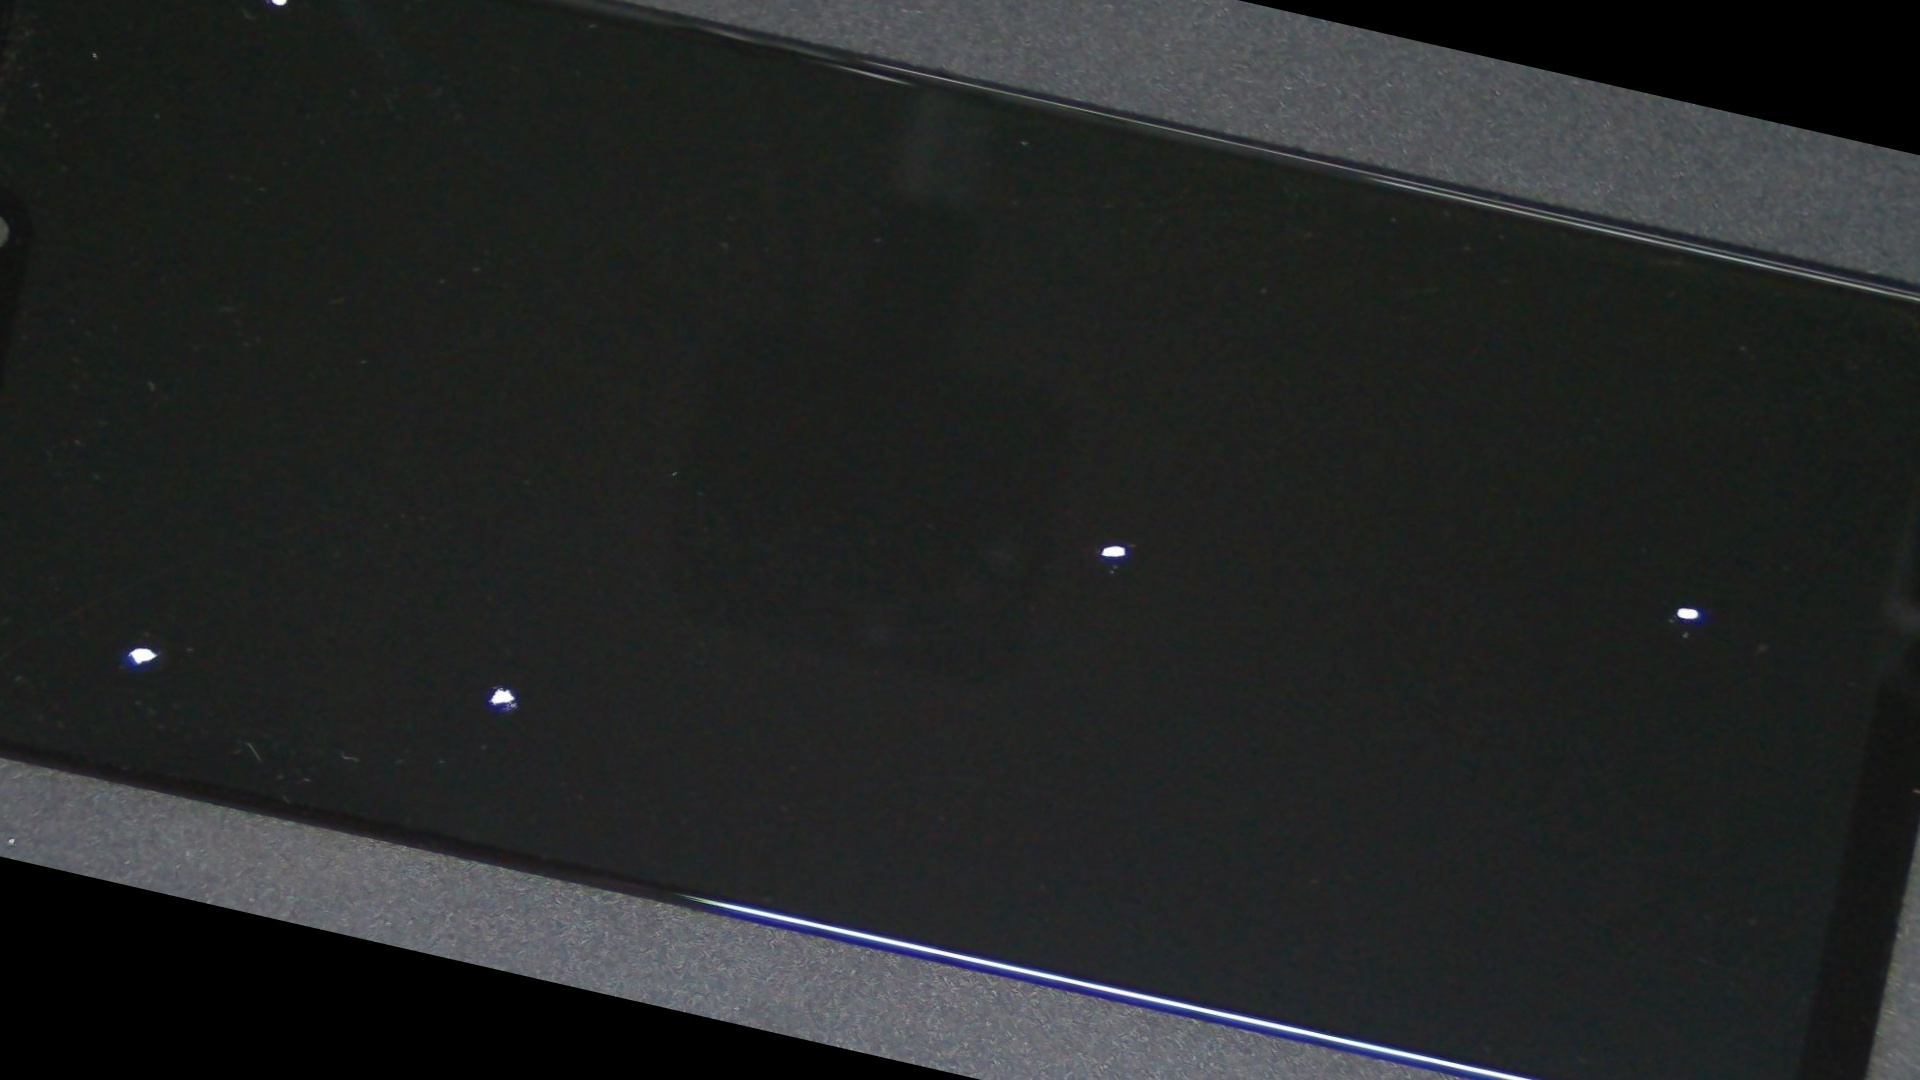oil: (410, 125, 1824, 963), (708, 154, 1920, 920), (76, 196, 975, 1043), (0, 175, 439, 922), (73, 0, 493, 131)
